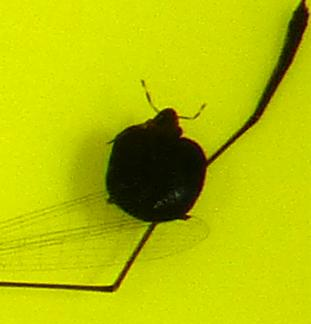Coleoptera: (100, 100, 211, 224)
